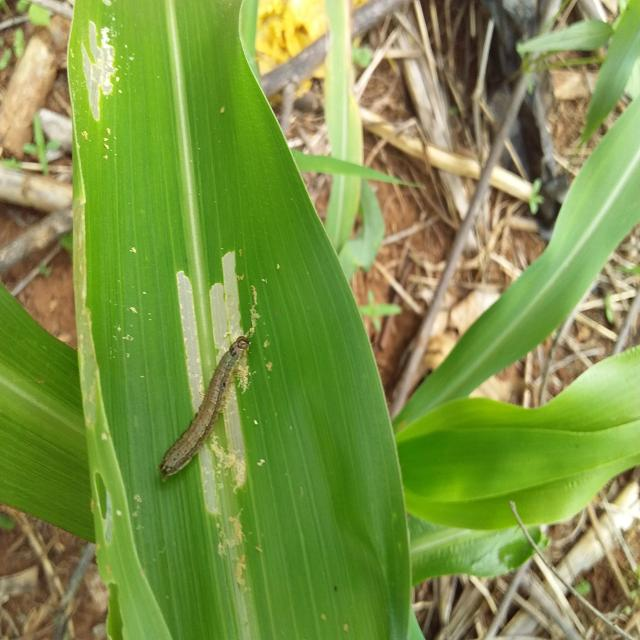yellow-stem-borer-larva: (151, 326, 254, 491)
